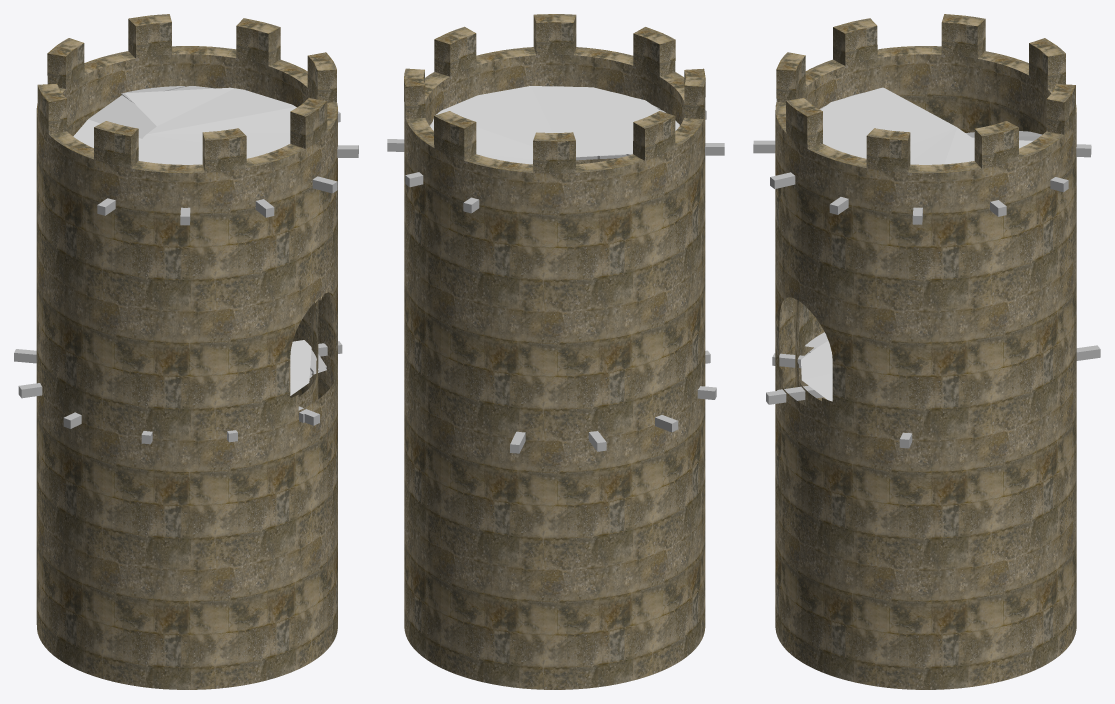
The model's file is Tower_3.fbx.
The picture shows the model from 3 angles, left to right: view 1: azimuth 30°, elevation 25°; view 2: azimuth 150°, elevation 25°; view 3: azimuth 270°, elevation 25°; orthographic projection.
Parts seen in each view (by area): view 1: CastleTower.020, Plane.247; view 2: CastleTower.020, Plane.247; view 3: CastleTower.020, Plane.247.
Boxes of the visible parts, x1,y1,x2,y2 form: CastleTower.020: (14,14,358,689); Plane.247: (73,87,311,395); CastleTower.020: (387,14,724,689); Plane.247: (430,86,679,164); CastleTower.020: (753,14,1100,689); Plane.247: (801,87,1042,401).
Size of the model in its own units: 630 by 1133 by 649.
